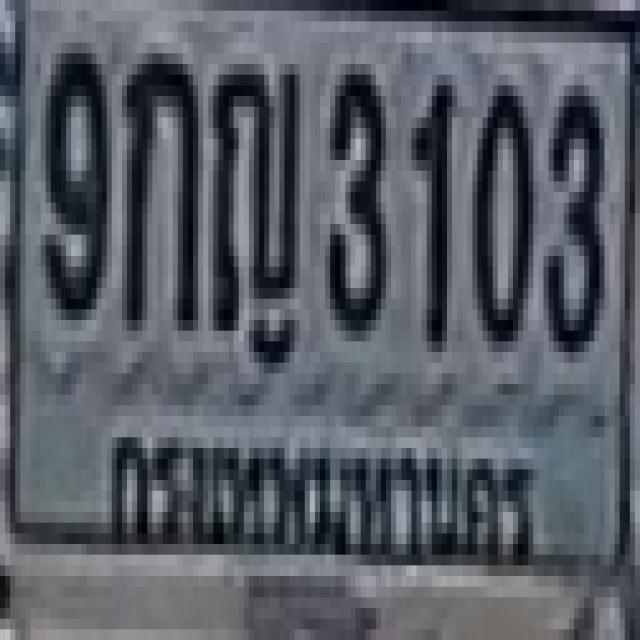0: (468, 75, 528, 341)
1: (409, 69, 449, 336)
3: (538, 75, 600, 341), (325, 59, 381, 325)
9: (38, 32, 104, 309)
A01: (120, 43, 196, 320)
A13: (211, 48, 297, 325)
BKK: (96, 399, 540, 578)
